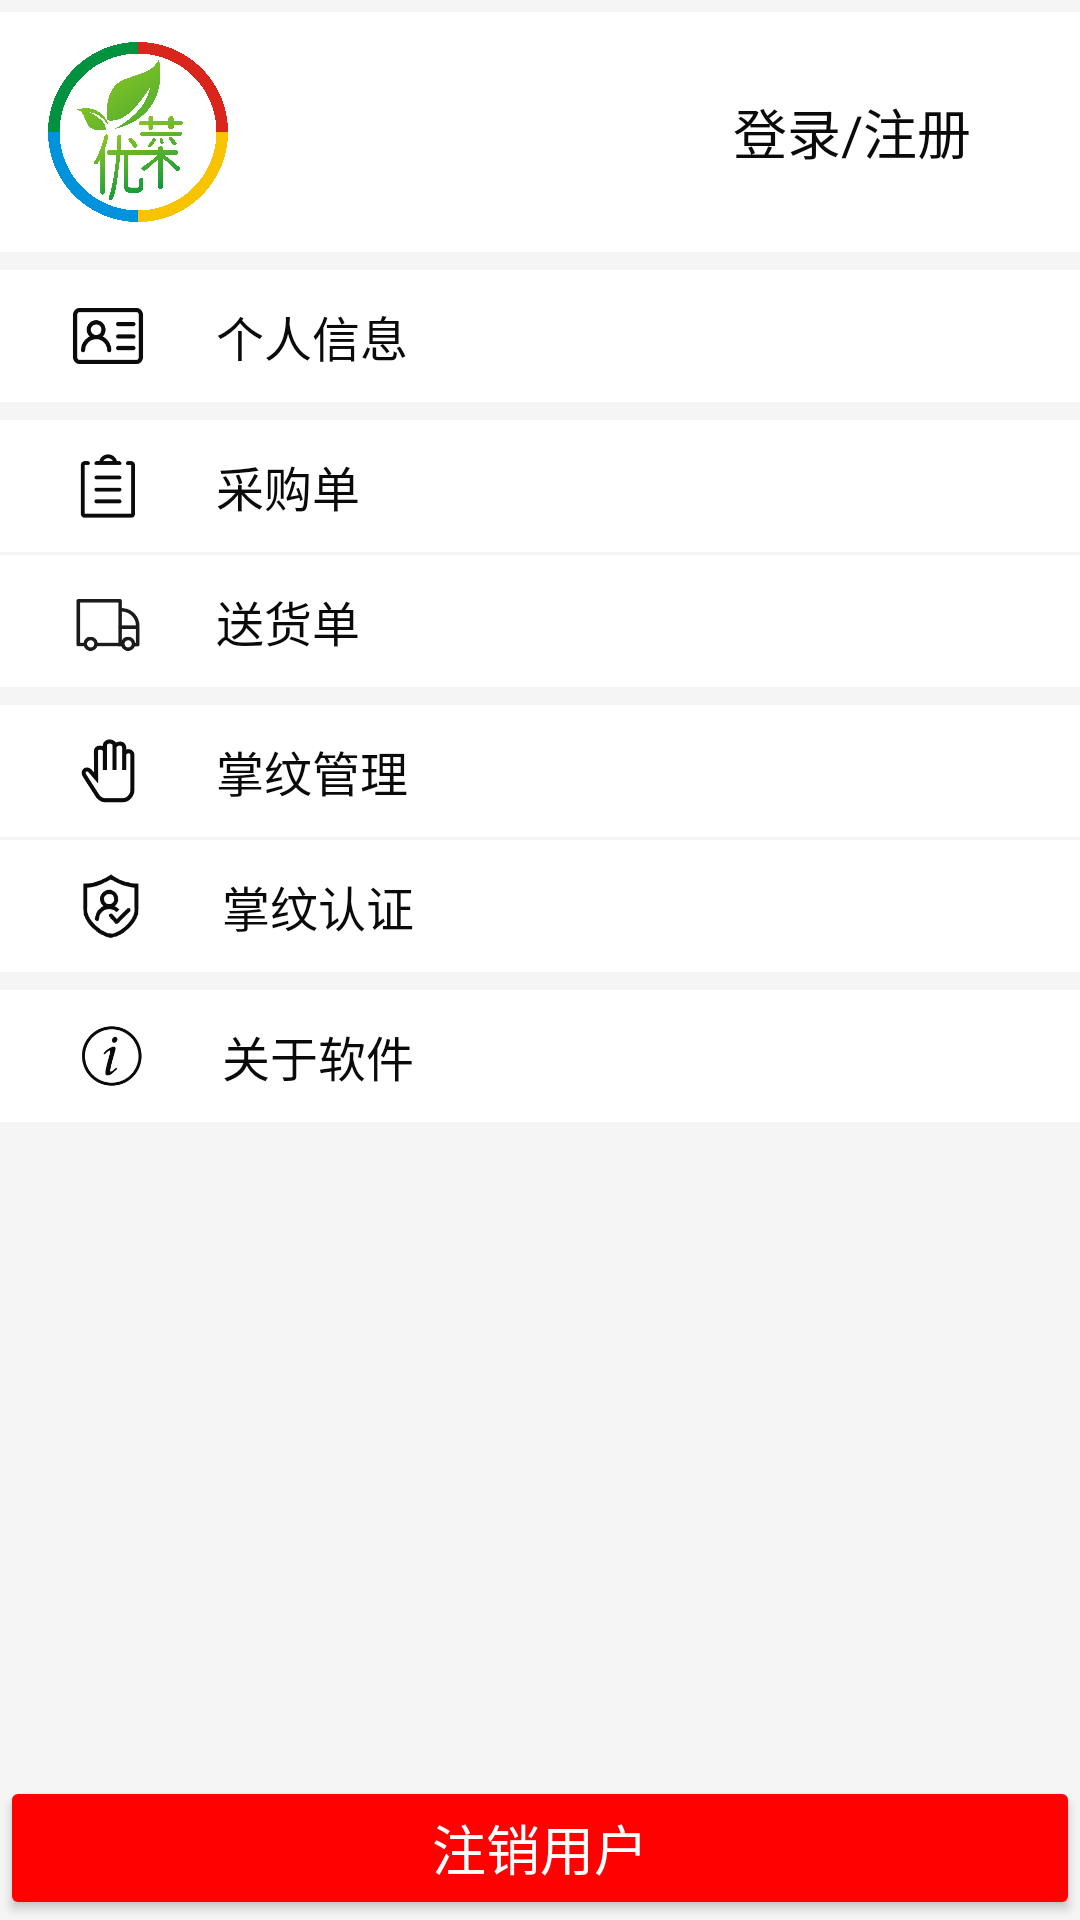

Point at icon controls on the screen. Image size 1080 × 1920, points as point (x, y).
me about: point (112, 1056)
me driver: point (108, 625)
me infor: point (108, 336)
me order: point (107, 486)
palm list: point (108, 771)
